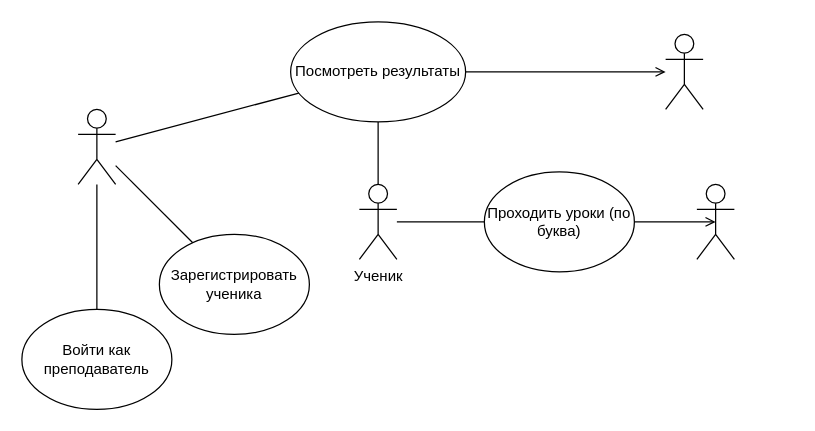
Some shapes in this 815 by 431 pixel diagram are drawn without their labels. Here are the shapes that lost their labels. From the top down, the box of each, then its label:
(664, 33, 703, 109): БД результатов
(77, 108, 116, 184): Преподаватель
(696, 183, 734, 259): БД уроков (по буквам)
